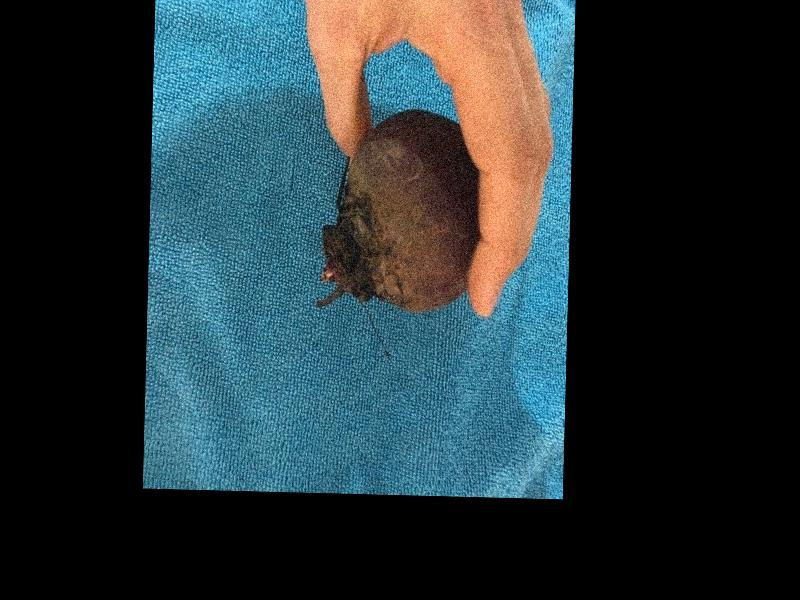Beet: (317, 109, 481, 312)
